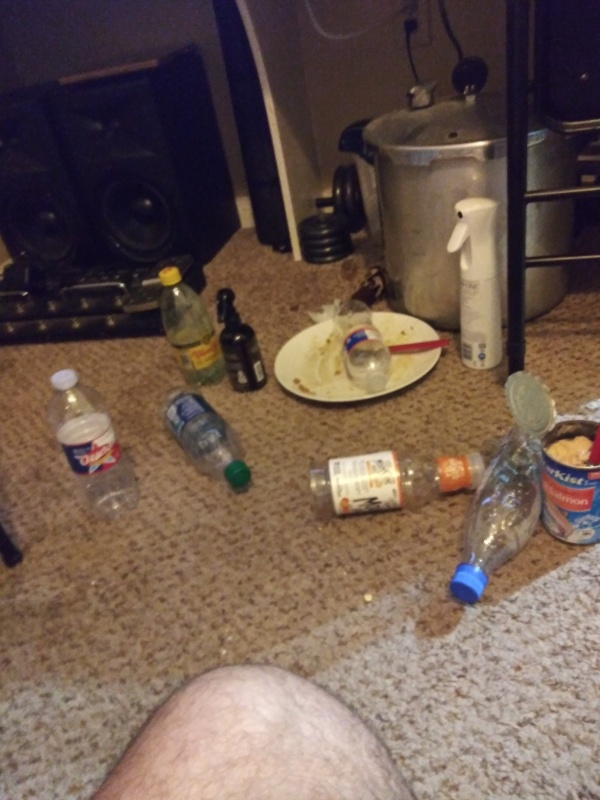bottle: (443, 420, 549, 606), (47, 364, 147, 521), (305, 440, 488, 521), (152, 381, 254, 493), (149, 263, 229, 391), (328, 298, 396, 397)
